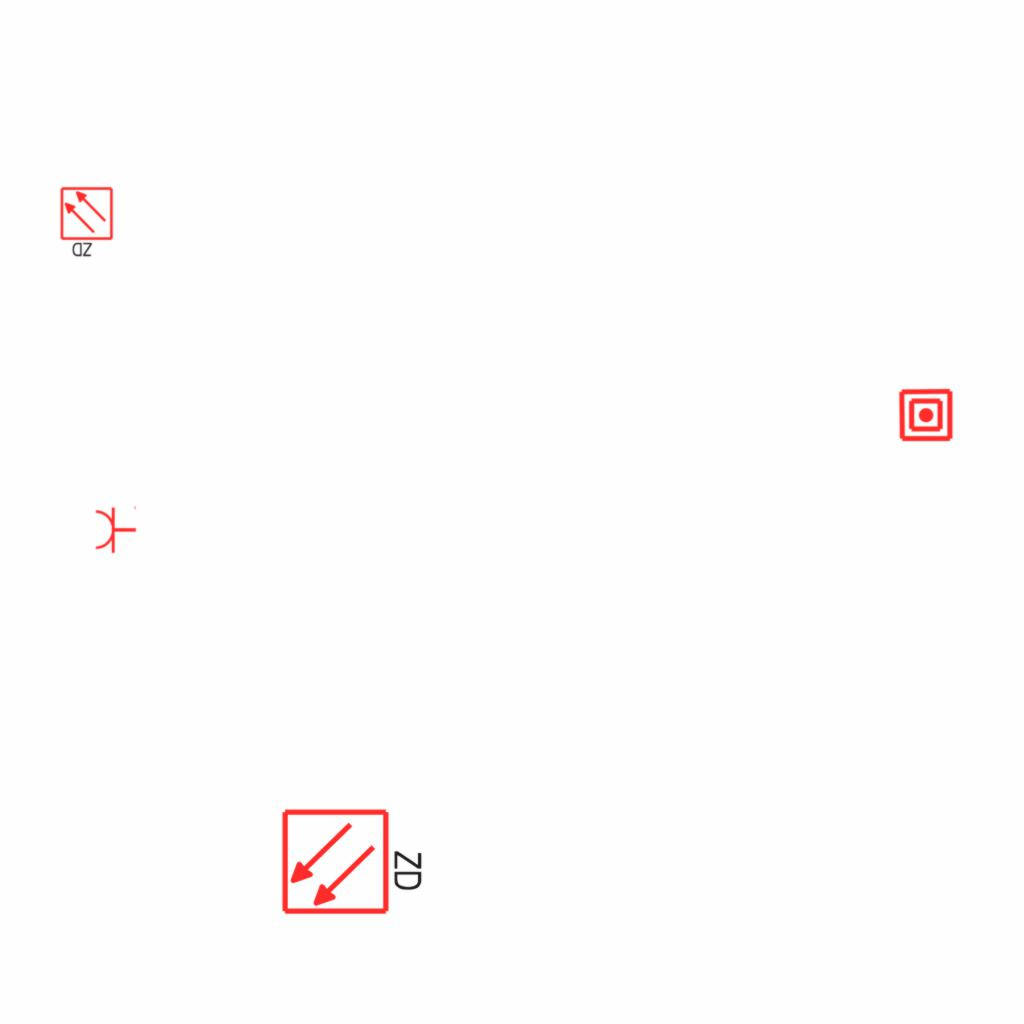NAM-Nichtautomatischer_Melder: (898, 387, 954, 443)
Schukosteckdose_einfach: (94, 504, 137, 554)
ZD_Melder_in_Zwischendecke_mit_Revisionsoeffnung_mind_40_x_40_cm: (280, 803, 429, 917), (59, 186, 116, 260)
